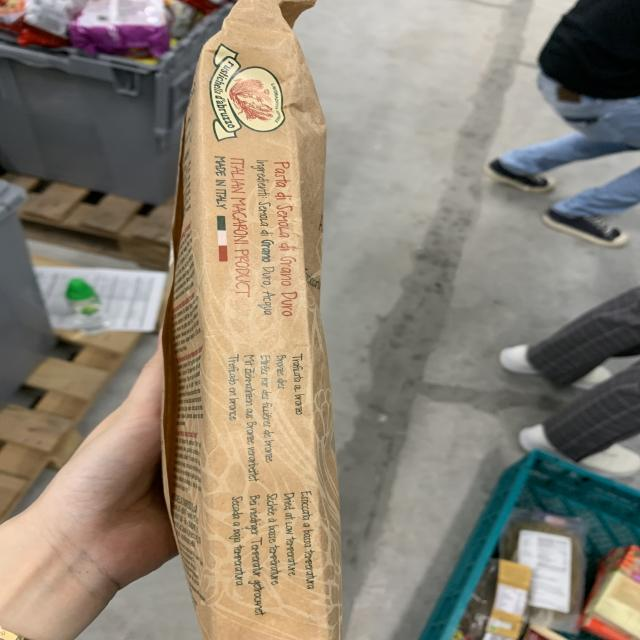object_name: (183, 16, 346, 640)
